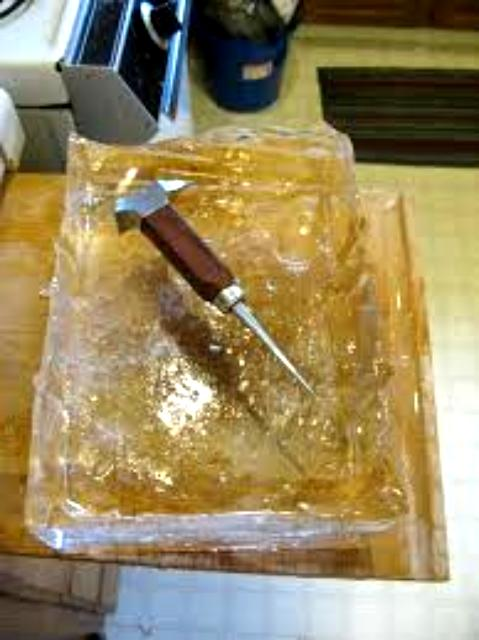ice pick: (97, 188, 337, 416)
